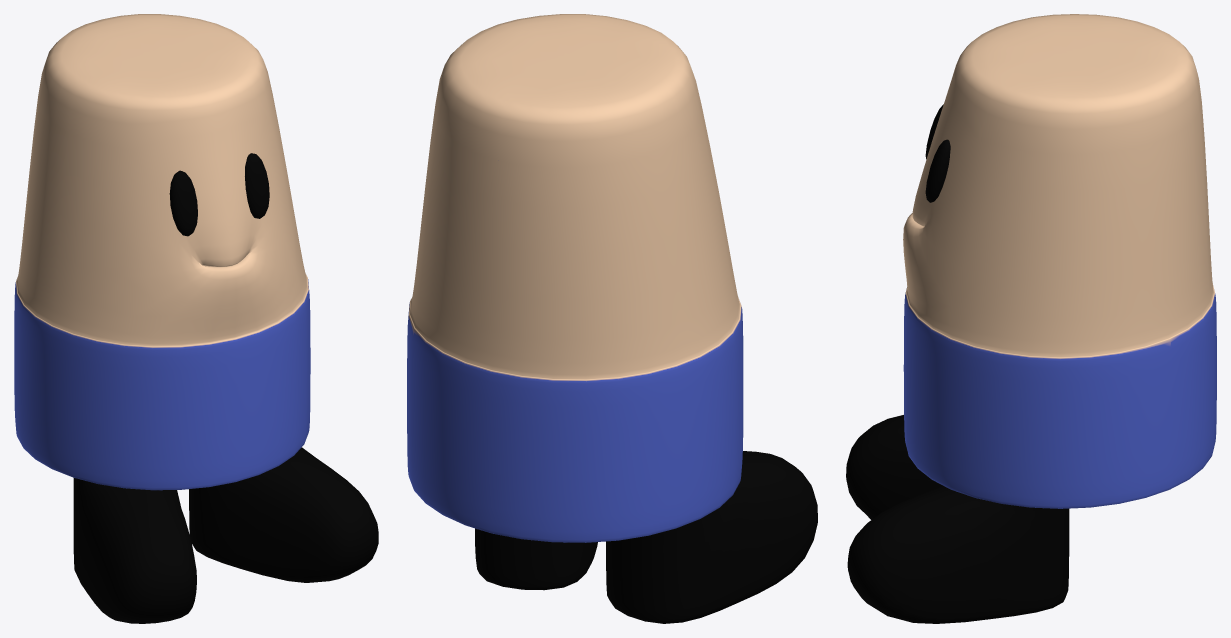
File: NPC-3.fbx
The picture shows the model from 3 angles, left to right: view 1: azimuth 30°, elevation 25°; view 2: azimuth 150°, elevation 25°; view 3: azimuth 270°, elevation 25°; orthographic projection. The views are drawn at different scales.
Parts seen in each view (by area): view 1: pCylinder4, pCube24, pCube25, pCube27, pCube26; view 2: pCylinder4, pCube25, pCube24; view 3: pCylinder4, pCube24, pCube25, pCube26.
Boxes of the visible parts, bbox=[...] form: pCylinder4: bbox=[14, 14, 310, 490]; pCube24: bbox=[189, 447, 378, 582]; pCube25: bbox=[73, 478, 196, 623]; pCube27: bbox=[169, 170, 197, 236]; pCube26: bbox=[245, 153, 269, 218]; pCylinder4: bbox=[407, 14, 743, 542]; pCube25: bbox=[606, 451, 817, 623]; pCube24: bbox=[475, 528, 597, 590]; pCylinder4: bbox=[903, 14, 1216, 508]; pCube24: bbox=[847, 486, 1069, 623]; pCube25: bbox=[846, 415, 943, 519]; pCube26: bbox=[925, 139, 950, 202].
Bounding box in the file's own units: 219 × 390 × 257.
2 materials, 1 textured.
